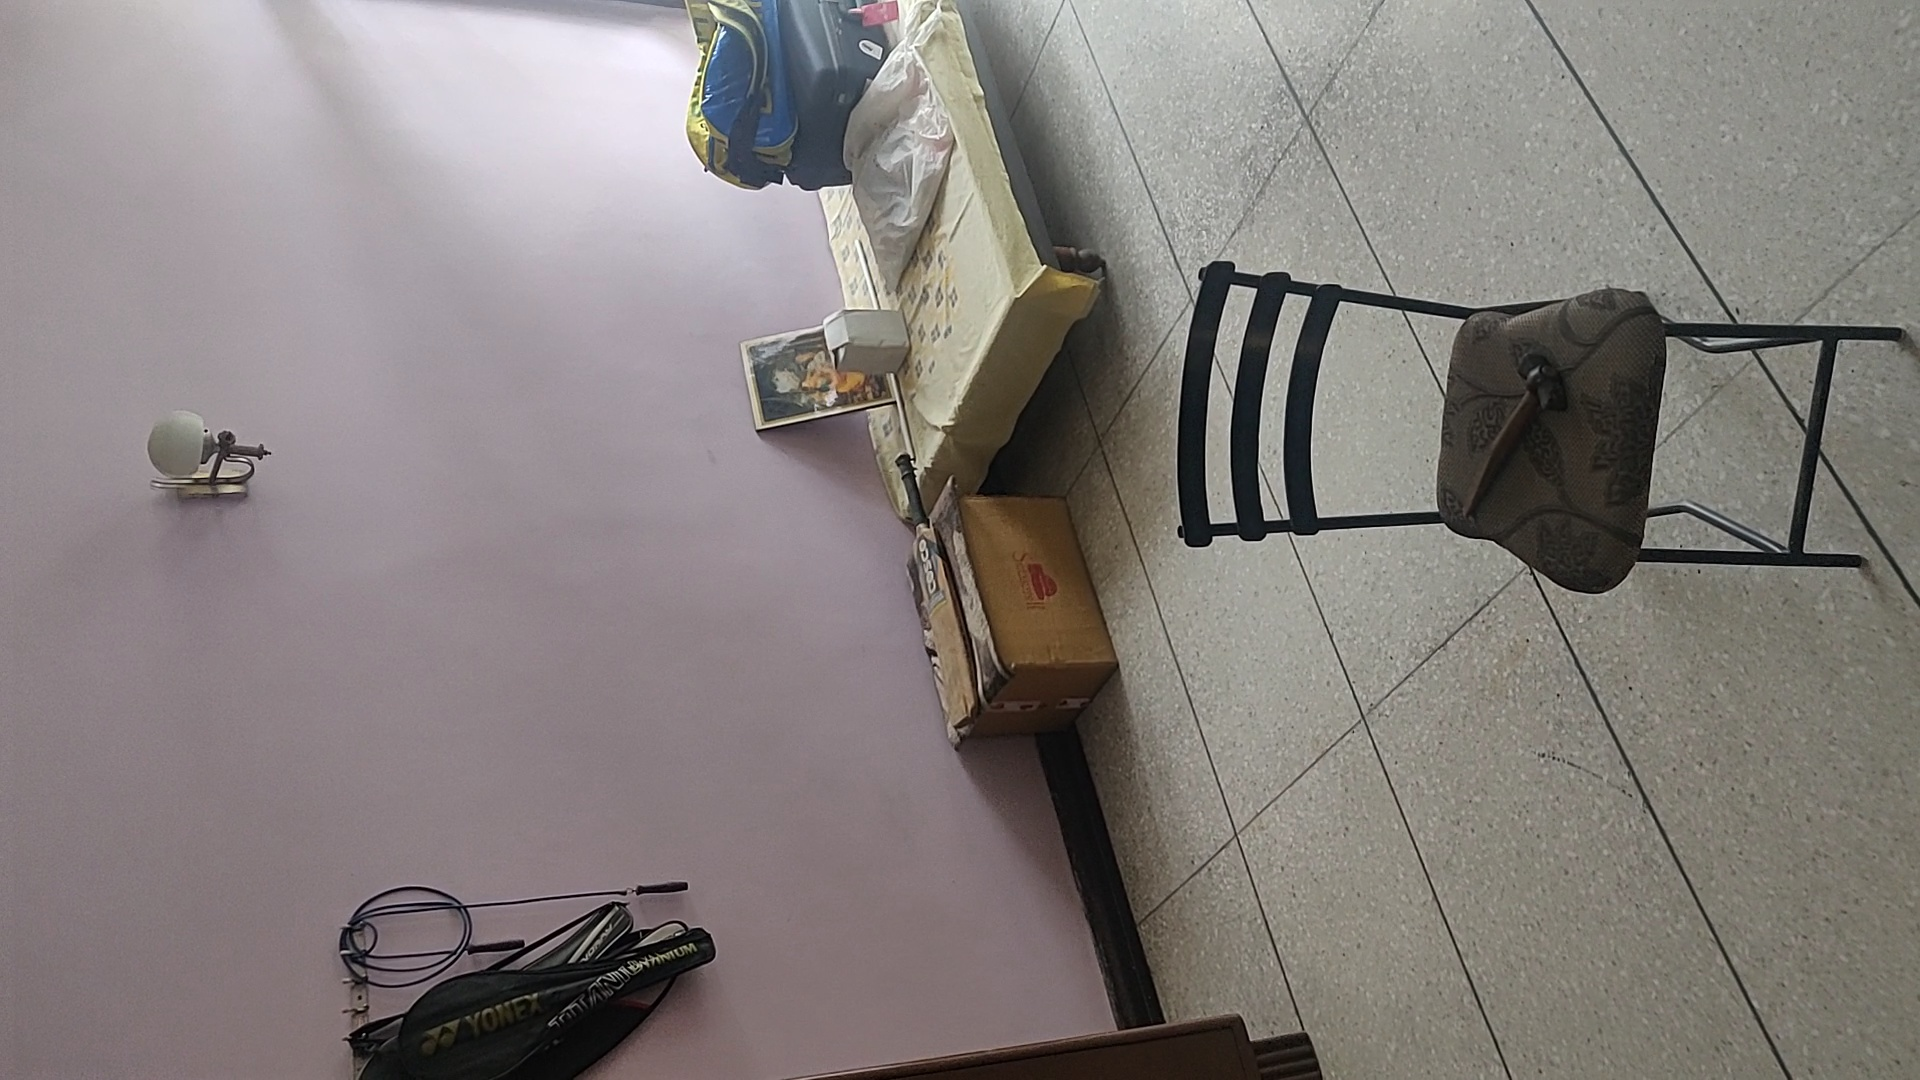hammer: (1462, 351, 1565, 513)
